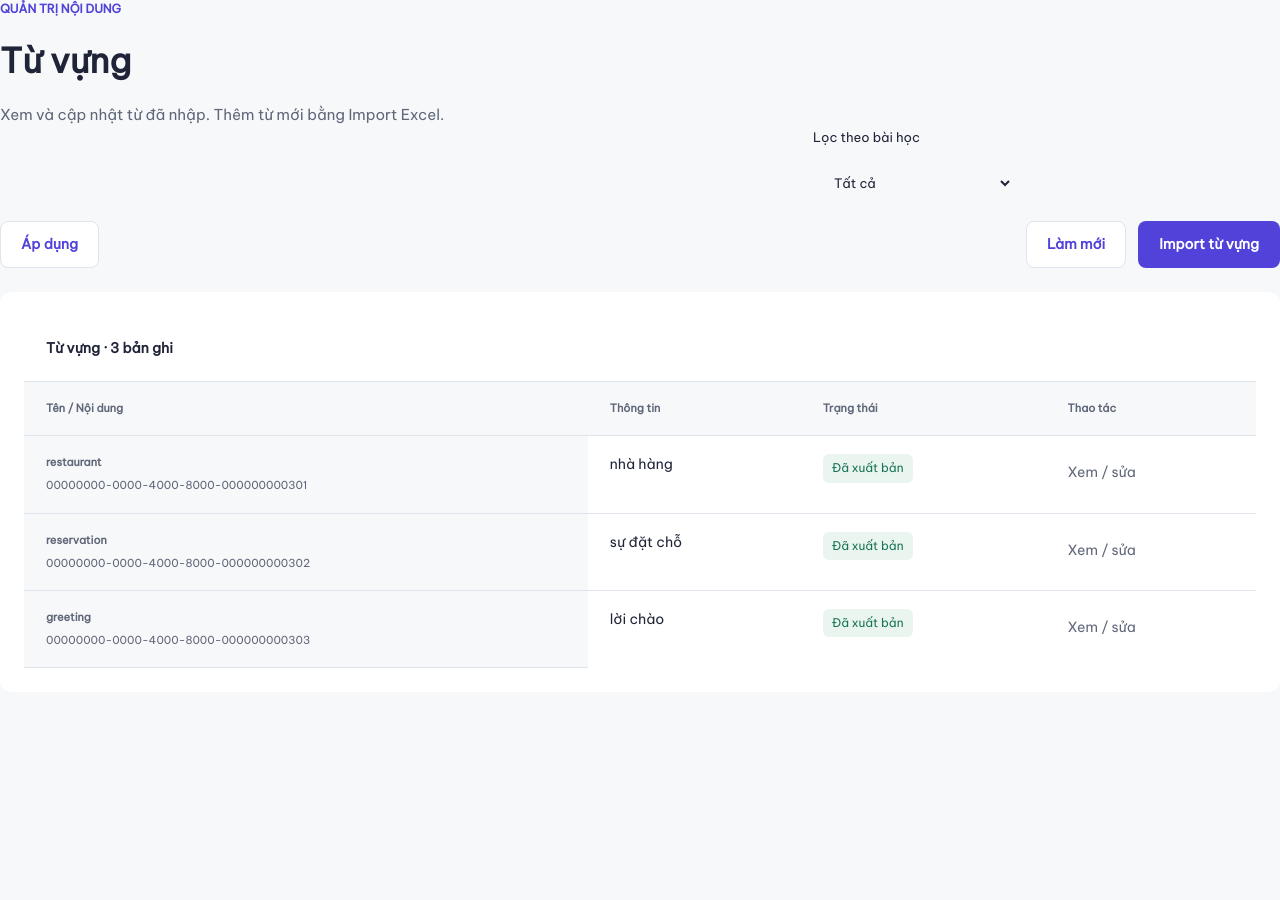
Test: updates imported Vocabulary without a create or immutable parent field
Click the button "Xem / sửa" in the row of "restaurant" at (1102, 473), box [1068,454,1136,492]
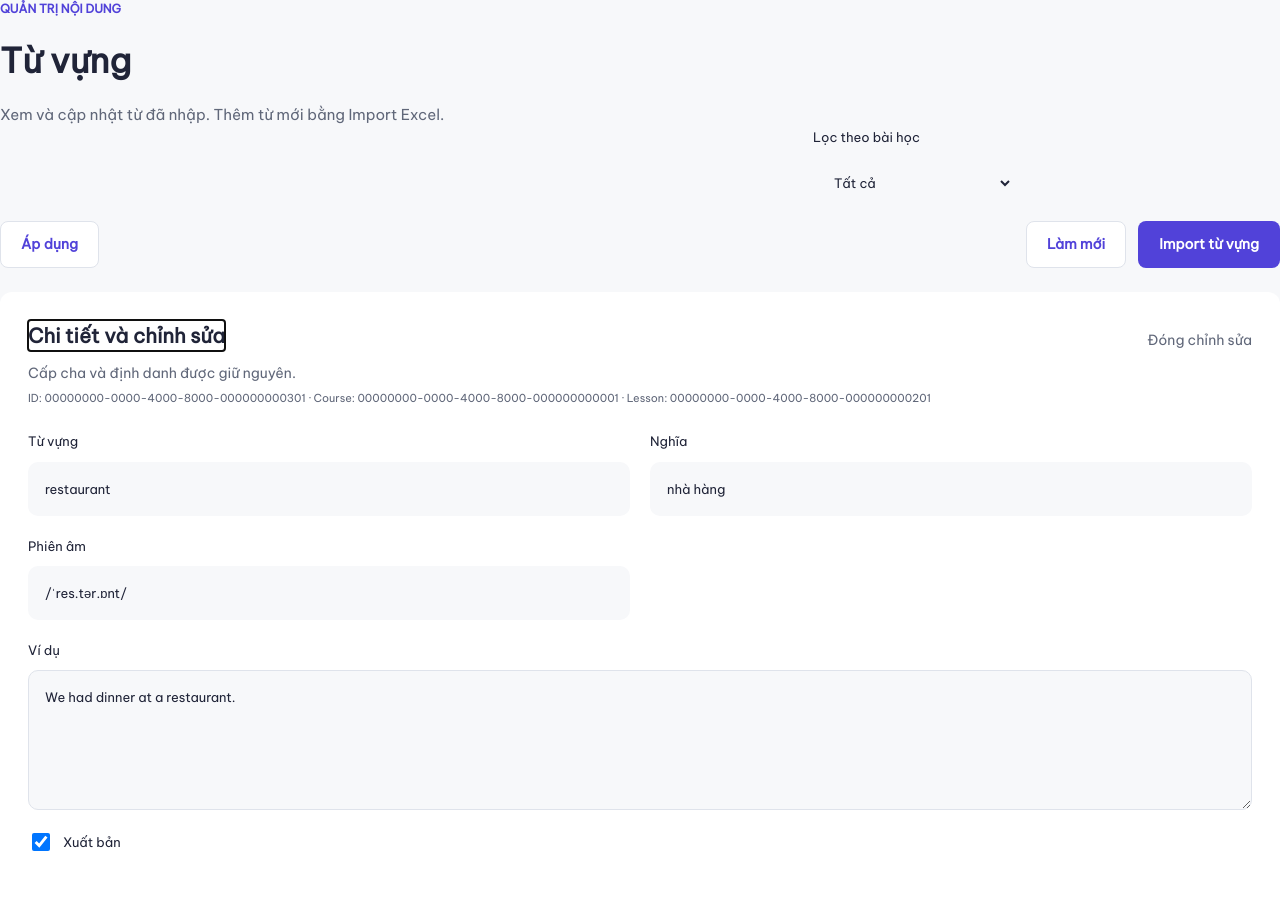
Check: the field labelled "Nghĩa" is shown, box [650,462,1252,516]
